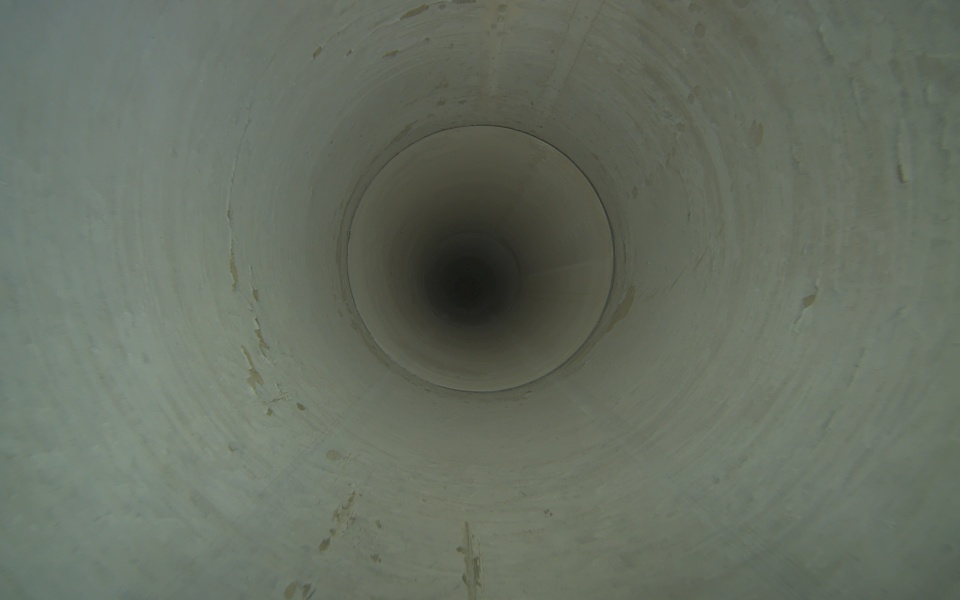circle1: (343, 124, 618, 393)
circle2: (444, 257, 499, 309)
